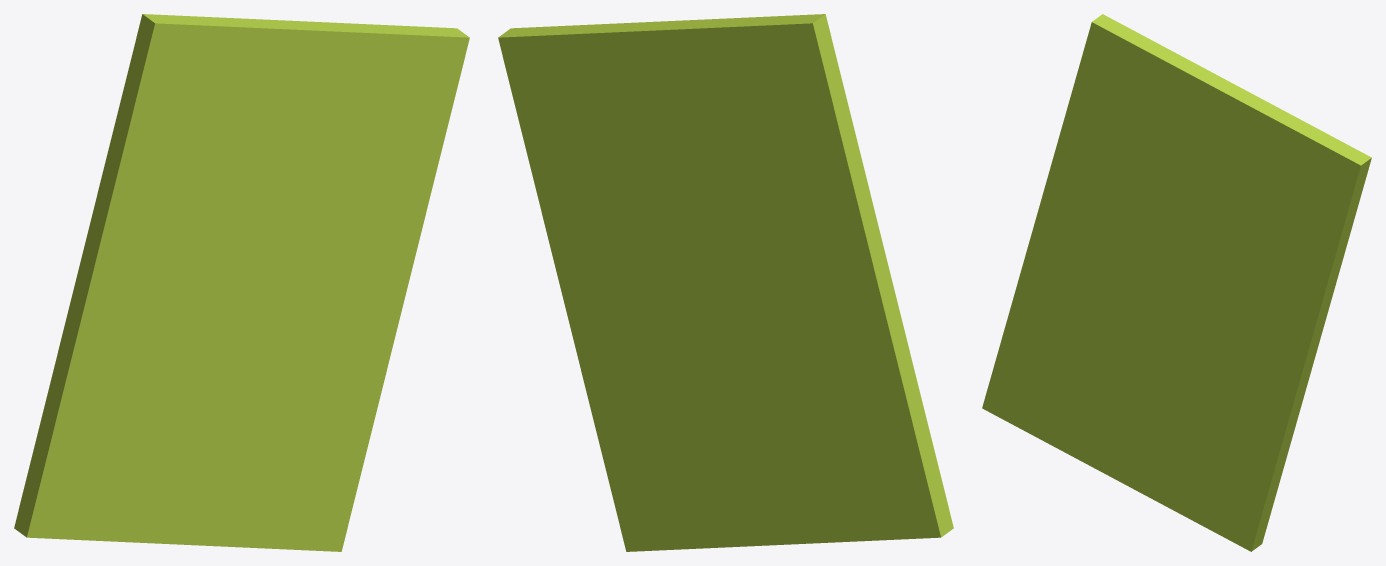
3 views of the same model, side by side, from view 1: azimuth 30°, elevation 25°; view 2: azimuth 150°, elevation 25°; view 3: azimuth 330°, elevation 25° (orthographic). The views are drawn at different scales.
Parts seen in each view (by area): view 1: osm-way27917482-F0; view 2: osm-way27917482-F0; view 3: osm-way27917482-F0.
Boxes of the visible parts, left/top/right/bottom form: osm-way27917482-F0: left=14, top=14, right=469, bottom=551; osm-way27917482-F0: left=498, top=14, right=953, bottom=551; osm-way27917482-F0: left=982, top=14, right=1371, bottom=551.
Size of the model in its own units: 3 by 3.71 by 0.15.
